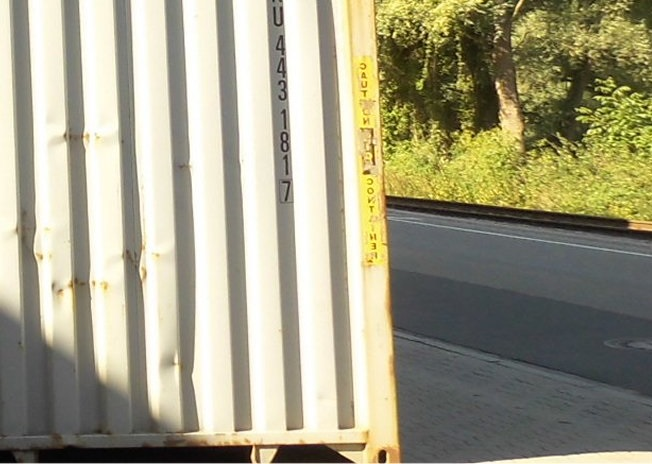container_no_door: (8, 1, 375, 457)
